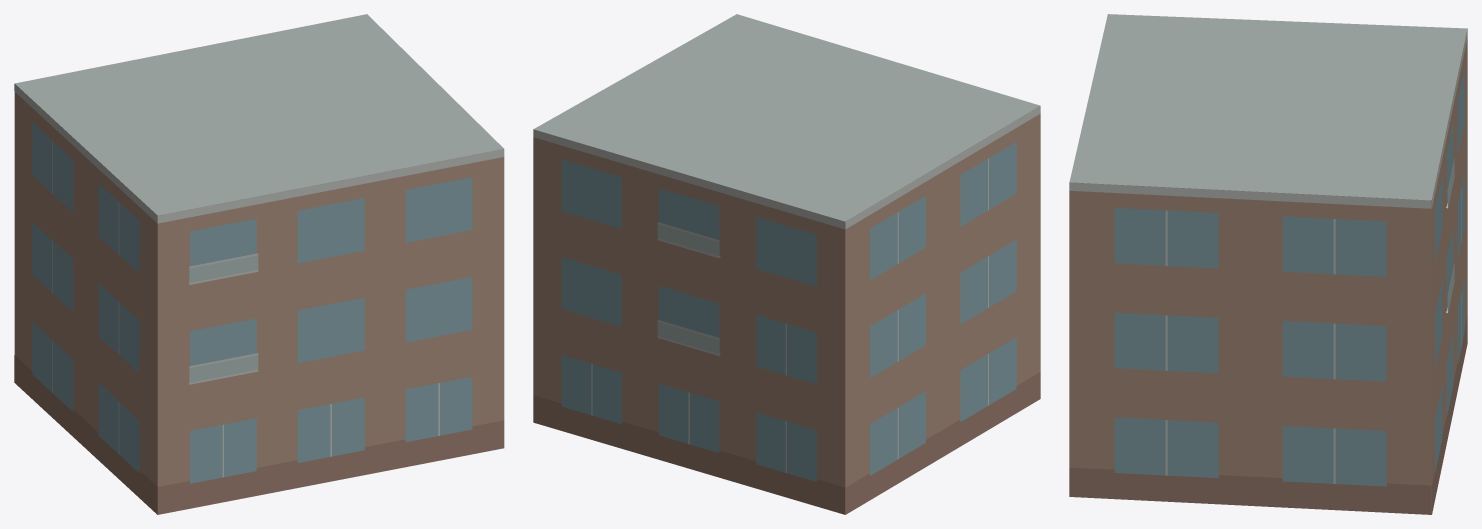
Rendered from survey-upis-32491221.glb.
3 renders of one model, left to right at view 1: azimuth 30°, elevation 25°; view 2: azimuth 150°, elevation 25°; view 3: azimuth 270°, elevation 25°, orthographic. The views are drawn at different scales.
Visible parts, largest first — view 1: survey-upis-32491221.tmp; view 2: survey-upis-32491221.tmp; view 3: survey-upis-32491221.tmp.
Boxes of the visible parts, x1,y1,x2,y2 form: survey-upis-32491221.tmp: [14, 14, 504, 514]; survey-upis-32491221.tmp: [533, 14, 1040, 514]; survey-upis-32491221.tmp: [1069, 14, 1467, 514].
Size of the model in its own units: 11.65 by 9.15 by 10.51.
